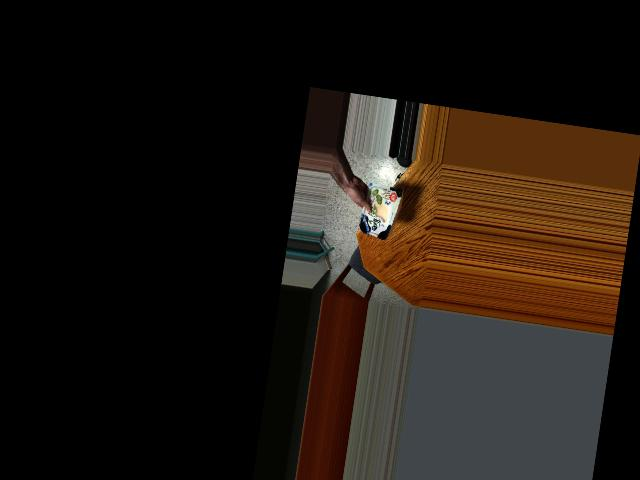cheese: (351, 188, 400, 237)
